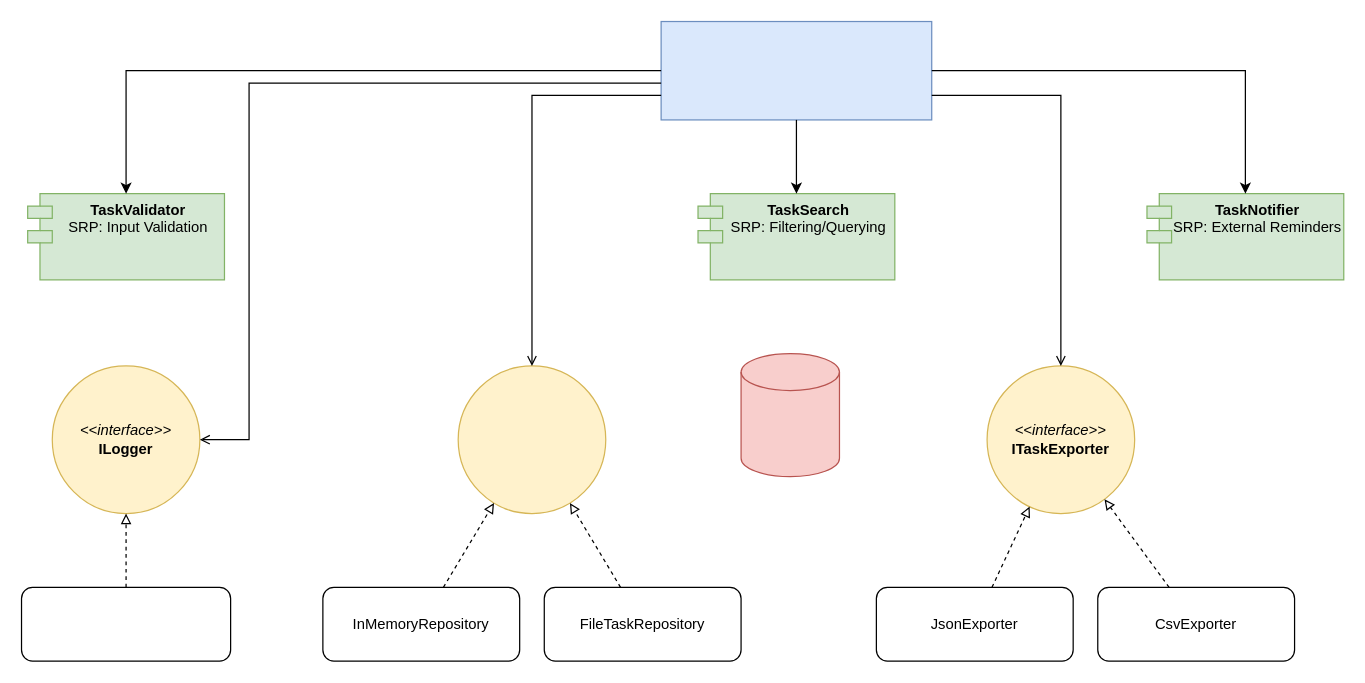
This 1365x683 diagram has some shape labels left out. Each missing label, with the centre of its shape:
<<interface>> ITaskStorage: pixel 531 439
ConsoleLogger / FileLogger: pixel 125 623
Task Model (Data Structure): pixel 789 414
TaskManager [Orchestrator] Handles flow logic: pixel 796 70
